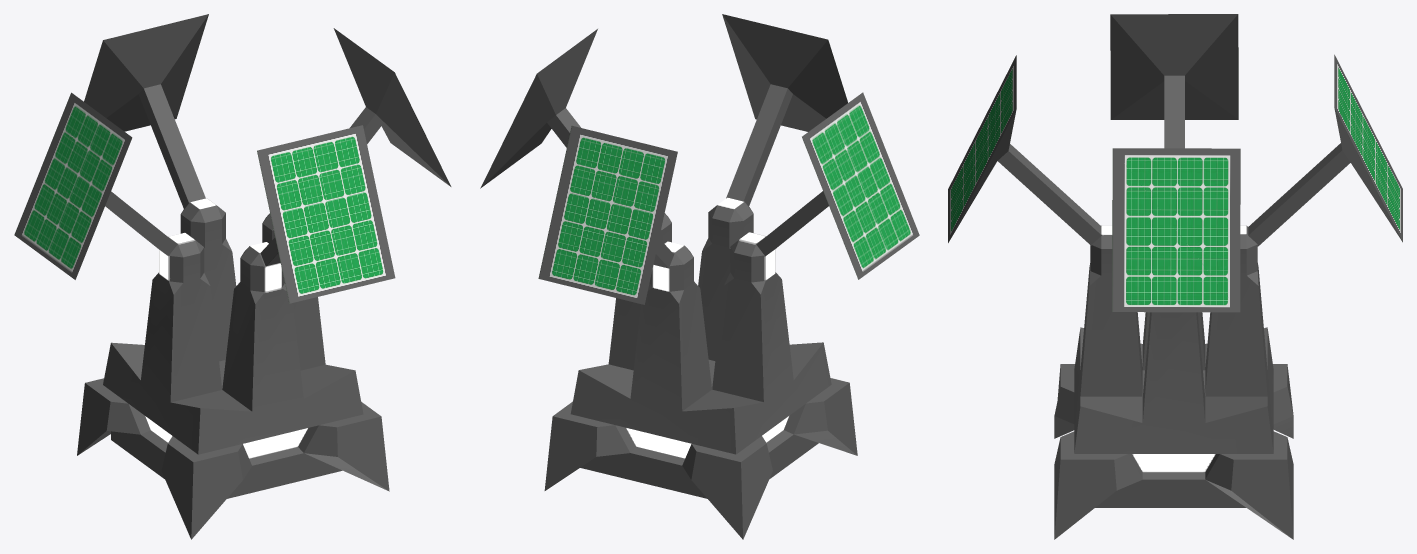
The model's file is Energietransformer.FBX.
3 views of the same model, side by side, from view 1: azimuth 30°, elevation 25°; view 2: azimuth 150°, elevation 25°; view 3: azimuth 270°, elevation 25° (orthographic). The views are drawn at different scales.
Parts seen in each view (by area): view 1: EnergieTransformer, SunPanel4, Sunpanel1, SunPanel3, SunPanel2; view 2: EnergieTransformer, SunPanel3, Sunpanel1, SunPanel4, SunPanel2; view 3: EnergieTransformer, SunPanel2, Sunpanel1, SunPanel3, SunPanel4.
Part boxes in pixels (<box>): EnergieTransformer: <box>77,198,389,539</box>; SunPanel4: <box>257,125,395,303</box>; Sunpanel1: <box>14,92,176,279</box>; SunPanel3: <box>84,14,208,208</box>; SunPanel2: <box>333,28,451,186</box>; EnergieTransformer: <box>544,197,857,539</box>; SunPanel3: <box>538,125,677,304</box>; Sunpanel1: <box>756,92,919,279</box>; SunPanel4: <box>722,14,847,205</box>; SunPanel2: <box>480,29,597,188</box>; EnergieTransformer: <box>1054,225,1293,539</box>; SunPanel2: <box>1112,148,1240,312</box>; Sunpanel1: <box>1110,14,1238,148</box>; SunPanel3: <box>1248,54,1402,246</box>; SunPanel4: <box>948,55,1101,245</box>.
Bounding box in the file's own units: 146 × 145 × 146.
2 materials, 2 textured.
